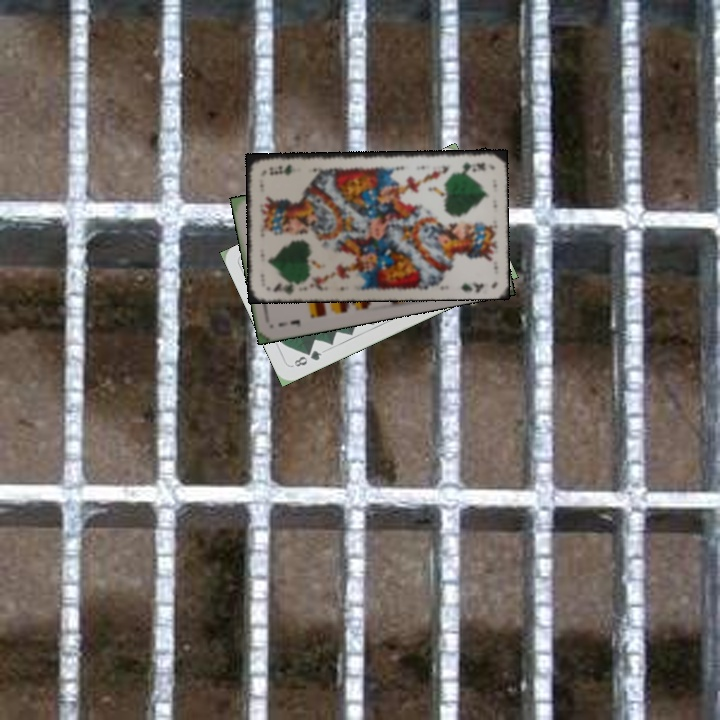E7: (275, 315, 302, 330)
G8: (290, 346, 324, 370)
GK: (458, 158, 489, 174), (269, 279, 295, 297)
